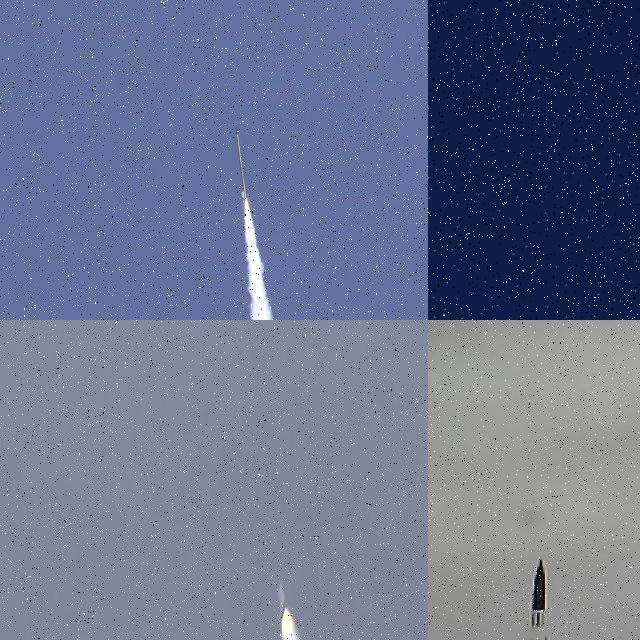Rocket: (510, 557, 559, 640), (235, 126, 249, 199), (278, 581, 289, 625)
